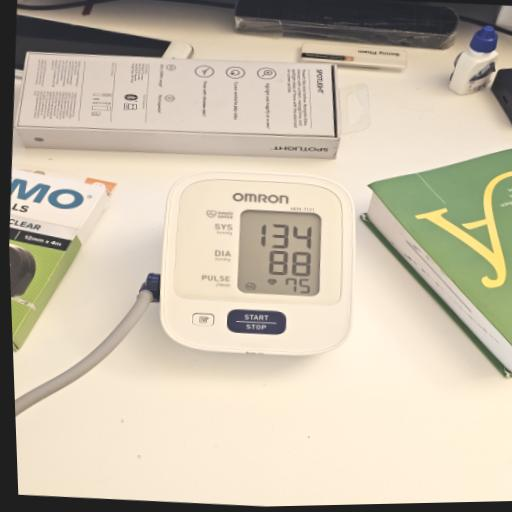lcd display: (233, 207, 325, 299)
